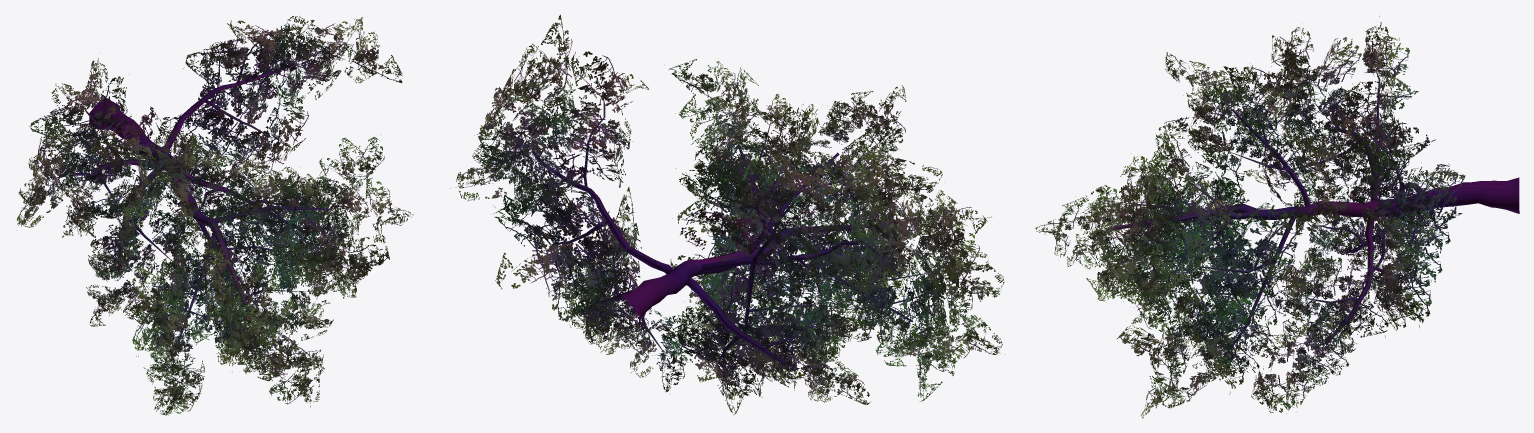
File: oak_big_oak_tree_001_lod1.glb
3 views of the same model, side by side, from view 1: azimuth 30°, elevation 25°; view 2: azimuth 150°, elevation 25°; view 3: azimuth 270°, elevation 25° (orthographic). The views are drawn at different scales.
Visible parts, largest first — view 1: Big_oak_tree__001_LOD1; view 2: Big_oak_tree__001_LOD1; view 3: Big_oak_tree__001_LOD1.
Part boxes in pixels (x1,y1,x2,y2): Big_oak_tree__001_LOD1: (16, 16, 413, 415); Big_oak_tree__001_LOD1: (450, 14, 1004, 415); Big_oak_tree__001_LOD1: (1035, 16, 1519, 418).
Size of the model in its own units: 20.51 by 15.65 by 19.46.
Materials: 2 (2 with a texture image).
